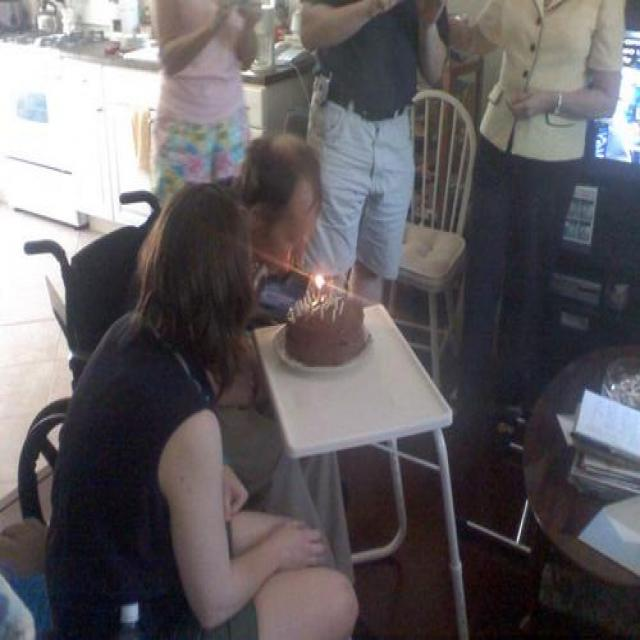chair: (392, 92, 476, 390)
dining table: (251, 278, 463, 633), (522, 342, 640, 584)
